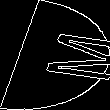M_W: (6, 26, 104, 84)
